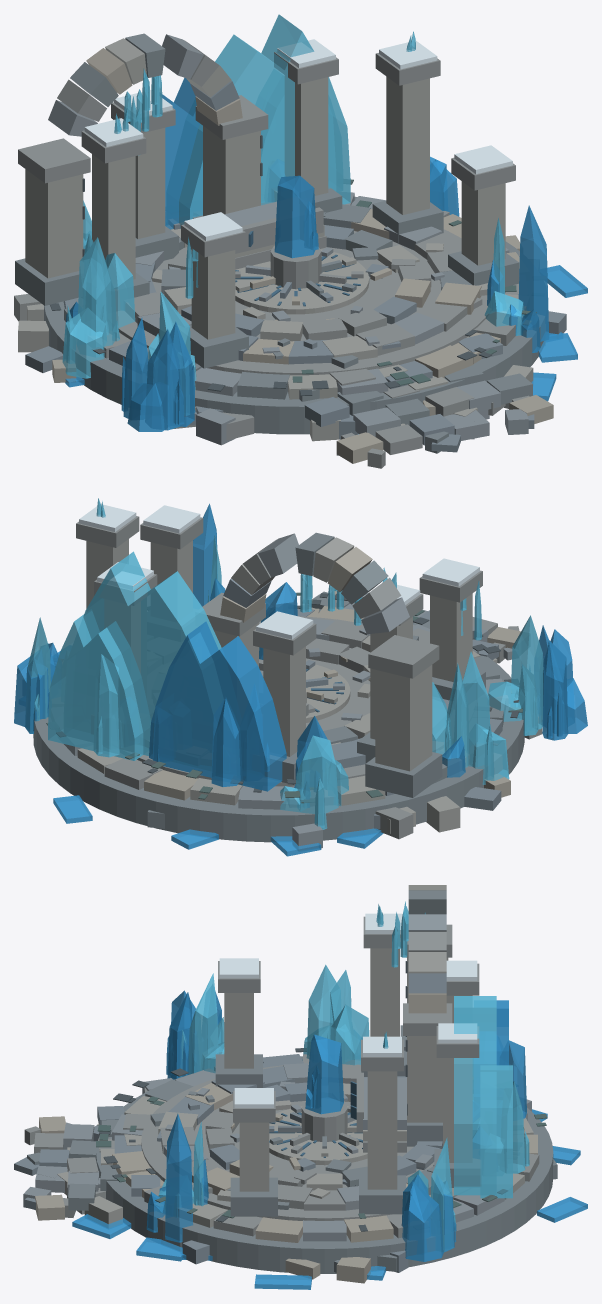
File: b2-frozen-ancient-altar.glb
3 views of the same model, one above another, from view 1: azimuth 30°, elevation 25°; view 2: azimuth 150°, elevation 25°; view 3: azimuth 270°, elevation 25° (orthographic). The views are drawn at different scales.
Visible parts, largest first — view 1: broad fractured glacier main mass, broken lower foundation, raised circular dais, column shaft.002, arch connected supporting pier, column shaft.005, overlapping deep ice shelf, arch connected supporting pier.001, column shaft, column shaft.001, peripheral ice shards, central ancient sigil disk (+89 smaller); view 2: broad fractured glacier main mass, overlapping deep ice shelf, broken lower foundation, offset frozen sheet, arch connected supporting pier, column shaft.004, column shaft.001, peripheral ice shards.013, peripheral ice shards, irregular splinter near glacier.002, peripheral ice shards.026, irregular splinter near glacier (+71 smaller); view 3: broken lower foundation, broad fractured glacier main mass, offset frozen sheet, raised circular dais, column shaft.002, column shaft.005, arch connected supporting pier.001, peripheral ice shards.024, altar sacred broken core, peripheral ice shards.006, column shaft, column shaft.001 (+69 smaller).
Boxes of the visible parts, x1,y1,x2,y2 form: broad fractured glacier main mass: (166, 14, 350, 228); broken lower foundation: (44, 196, 544, 434); raised circular dais: (116, 204, 488, 375); column shaft.002: (386, 76, 429, 214); arch connected supporting pier: (25, 169, 83, 278); column shaft.005: (285, 76, 328, 195); overlapping deep ice shelf: (162, 77, 202, 229); arch connected supporting pier.001: (203, 126, 260, 216); column shaft: (92, 154, 135, 279); column shaft.001: (191, 248, 235, 339); peripheral ice shards: (77, 237, 116, 356); central ancient sigil disk: (235, 249, 369, 314); broad fractured glacier main mass: (64, 551, 223, 770); overlapping deep ice shelf: (153, 621, 286, 791); broken lower foundation: (33, 609, 524, 842); offset frozen sheet: (48, 611, 150, 760); arch connected supporting pier: (375, 665, 432, 771); column shaft.004: (263, 646, 305, 756); column shaft.001: (430, 593, 472, 681); peripheral ice shards.013: (295, 735, 338, 829); peripheral ice shards: (454, 651, 490, 766); irregular splinter near glacier.002: (93, 654, 120, 757); peripheral ice shards.026: (510, 615, 543, 730); irregular splinter near glacier: (211, 697, 241, 786); broken lower foundation: (96, 1056, 553, 1273); broad fractured glacier main mass: (454, 996, 496, 1195); offset frozen sheet: (480, 1065, 512, 1198); raised circular dais: (141, 1065, 457, 1220); column shaft.002: (367, 1071, 397, 1189); column shaft.005: (443, 1058, 472, 1162); arch connected supporting pier.001: (407, 1036, 442, 1122); peripheral ice shards.024: (165, 1113, 193, 1242); altar sacred broken core: (305, 1034, 343, 1114); peripheral ice shards.006: (402, 1182, 443, 1261); column shaft: (370, 948, 399, 1036); column shaft.001: (224, 993, 253, 1068).
Size of the model in its own units: 10.44 by 5.33 by 11.42.
